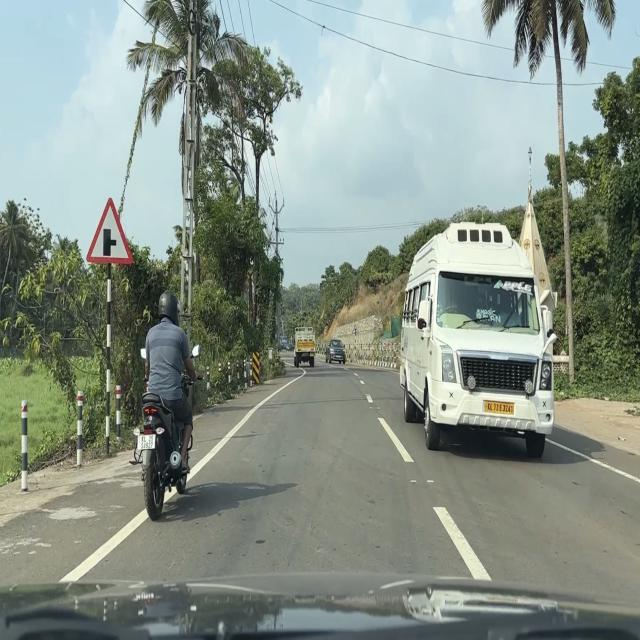SIDE_ROAD_RIGHT: (85, 196, 134, 266)
